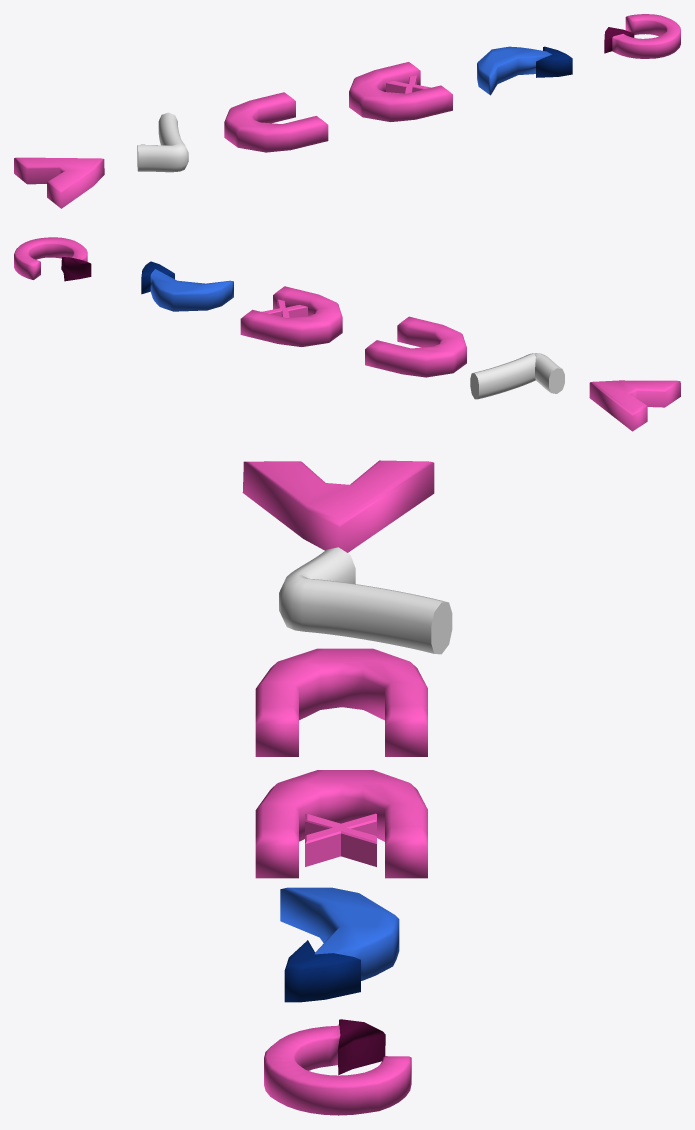
The model's file is move_icons_v2.glb.
3 renders of one model, top to bottom at view 1: azimuth 30°, elevation 25°; view 2: azimuth 150°, elevation 25°; view 3: azimuth 270°, elevation 25°, orthographic. The views are drawn at different scales.
Parts seen in each view (by area): view 1: Repel, Attract, Move, Jump, Rotate, CheckMark; view 2: Repel, Attract, Move, Jump, CheckMark, Rotate; view 3: Repel, Attract, Move, Rotate, CheckMark, Jump.
Boxes of the visible parts, x1,y1,x2,y2 form: Repel: (349,62,452,121); Attract: (224,92,328,152); Move: (14,157,104,208); Jump: (477,46,572,95); Rotate: (604,14,680,58); CheckMark: (137,112,188,172); Repel: (240,286,342,346); Attract: (365,316,466,377); Move: (589,380,680,431); Jump: (141,261,233,311); CheckMark: (470,353,564,399); Rotate: (14,237,91,281); Repel: (255,770,427,878); Attract: (255,648,427,756); Move: (242,460,434,552); Rotate: (264,1019,411,1115); CheckMark: (279,547,452,654); Jump: (280,887,399,1002).
Size of the model in its own units: 7.69 by 0.3 by 1.09.
Materials: 1 (1 with a texture image).
